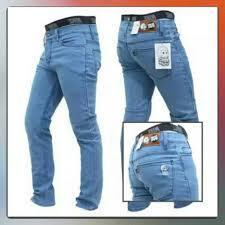pants: (23, 16, 104, 209), (119, 12, 198, 121), (124, 123, 201, 200)
